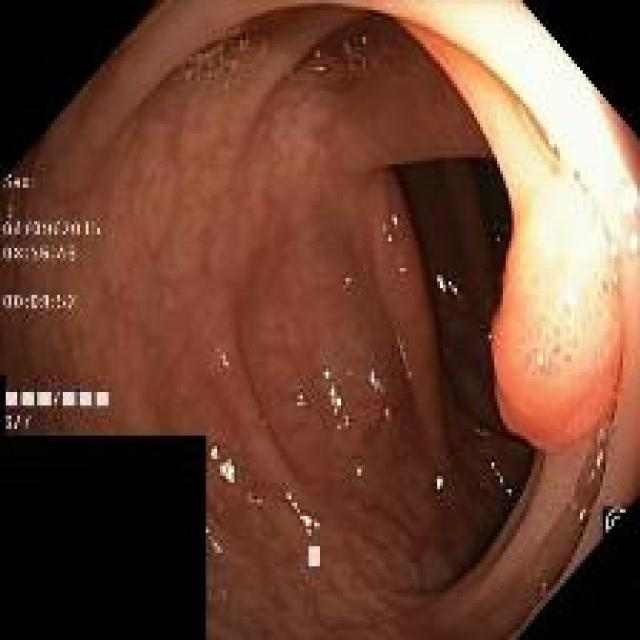Polyps: (494, 179, 622, 452)
